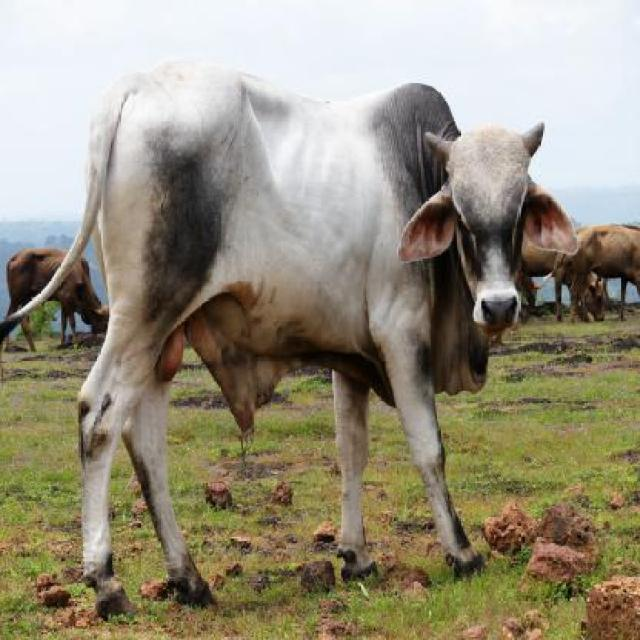Cow: (4, 56, 584, 622)
